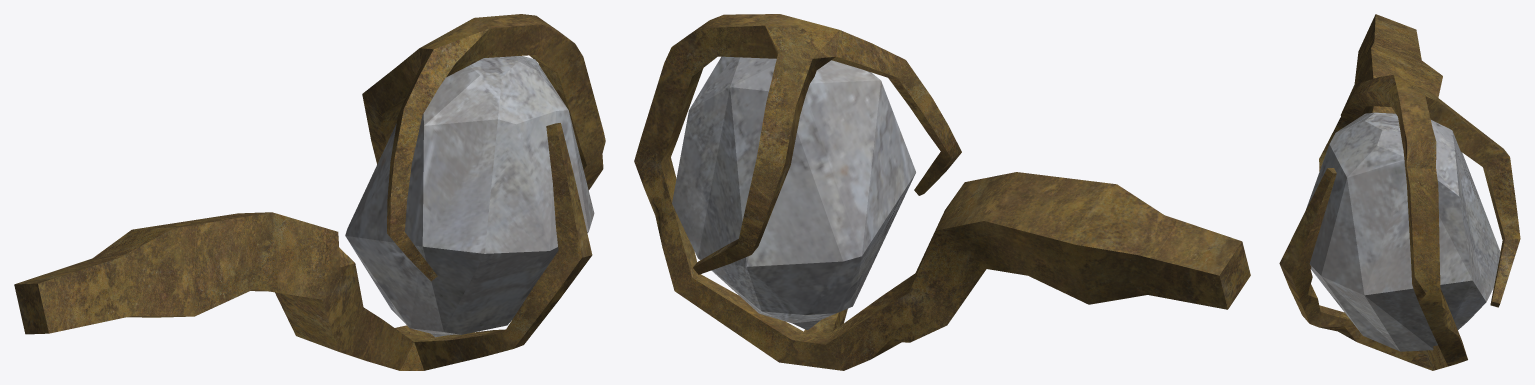
The model's file is mg_12_light_1.fbx.
The picture shows the model from 3 angles, left to right: view 1: azimuth 30°, elevation 25°; view 2: azimuth 150°, elevation 25°; view 3: azimuth 270°, elevation 25°; orthographic projection. The views are drawn at different scales.
Visible parts, largest first — view 1: mg_12_light_1; view 2: mg_12_light_1; view 3: mg_12_light_1.
Boxes of the visible parts, x1,y1,x2,y2 form: mg_12_light_1: [14, 14, 605, 370]; mg_12_light_1: [634, 14, 1250, 370]; mg_12_light_1: [1279, 14, 1520, 370].
Size of the model in its own units: 65.18 by 34.97 by 26.68.
